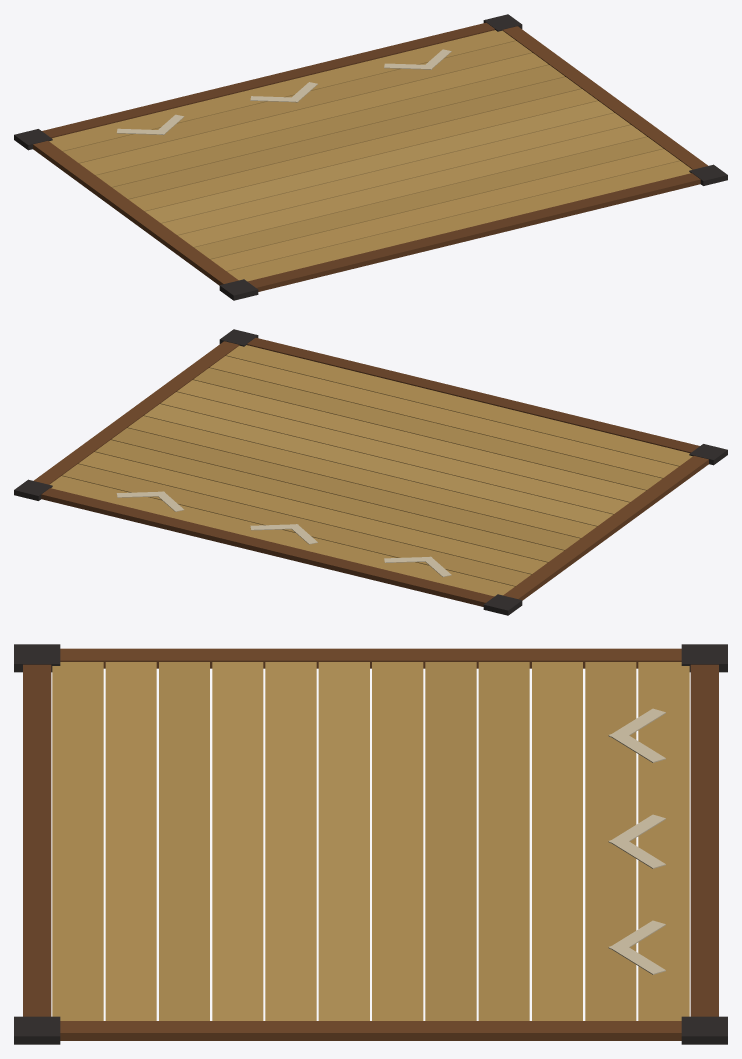
Rendered from SellPad.glb.
3 renders of one model, top to bottom at view 1: azimuth 30°, elevation 25°; view 2: azimuth 150°, elevation 25°; view 3: azimuth 270°, elevation 25°, orthographic. The views are drawn at different scales.
Visible parts, largest first — view 1: SellPad, Body; view 2: SellPad, Body; view 3: SellPad, Body.
Boxes of the visible parts, box(x1,y1,x2,y2) form: SellPad: box(49, 30, 692, 281); Body: box(14, 14, 727, 300); SellPad: box(49, 345, 692, 596); Body: box(14, 329, 727, 615); SellPad: box(52, 662, 689, 1020); Body: box(14, 644, 727, 1044).
Size of the model in its own units: 26.1 by 0.26 by 20.1.
